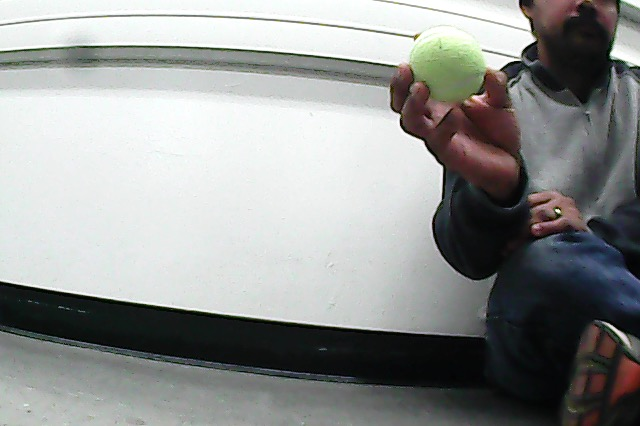ball: (406, 22, 489, 109)
